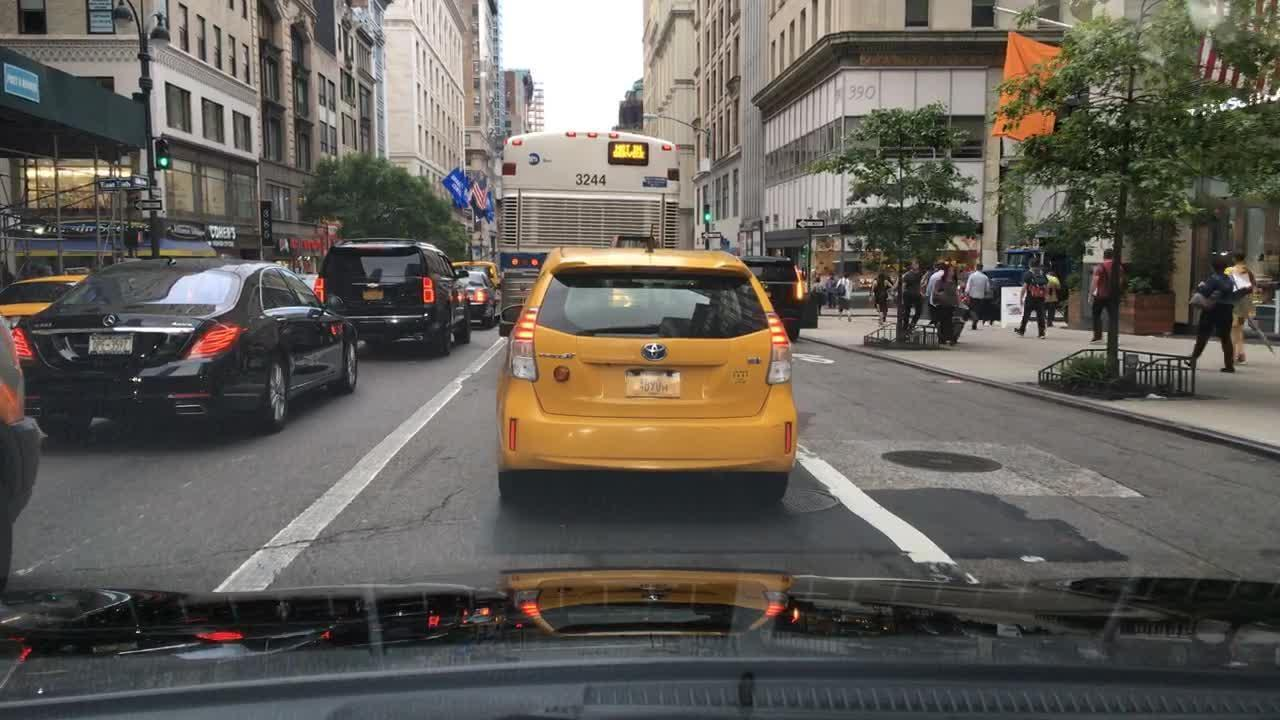Mercedes: (97, 310, 120, 330)
Toyota: (640, 339, 669, 366)
chevrolet: (362, 279, 382, 292)
